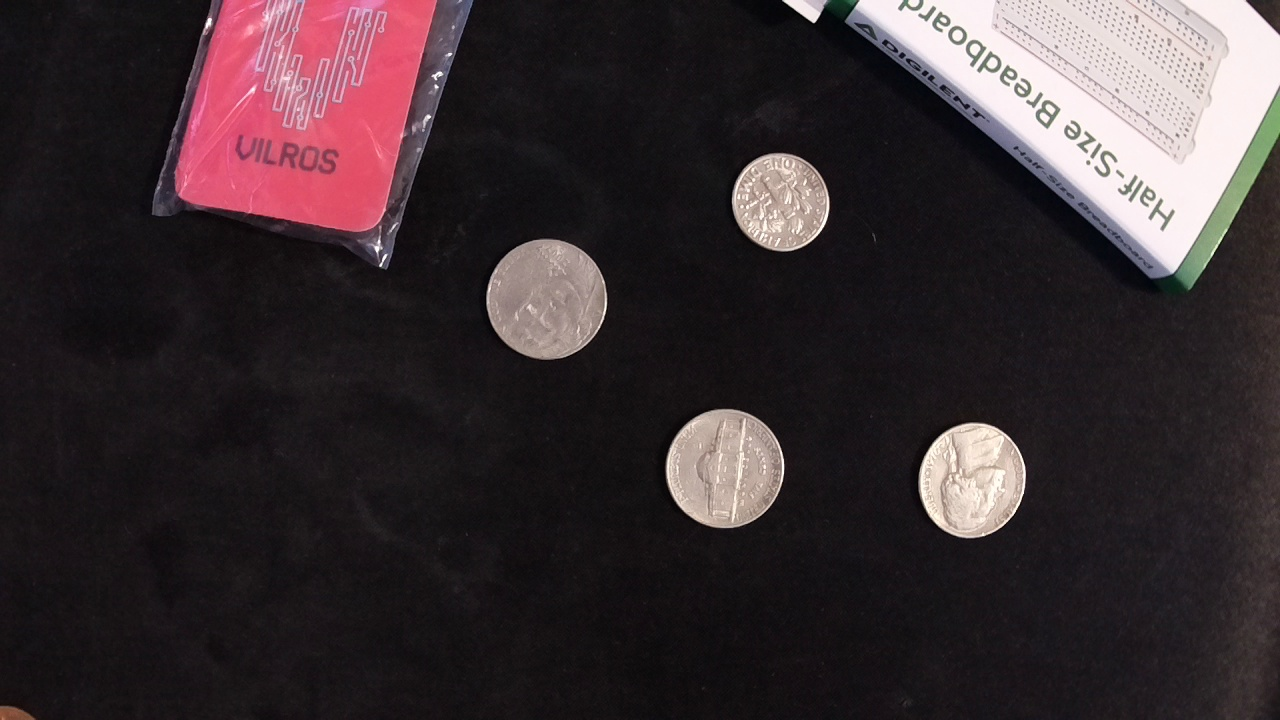dime: (726, 147, 834, 255)
nickel: (655, 404, 793, 534), (482, 234, 612, 366), (914, 418, 1030, 546)
